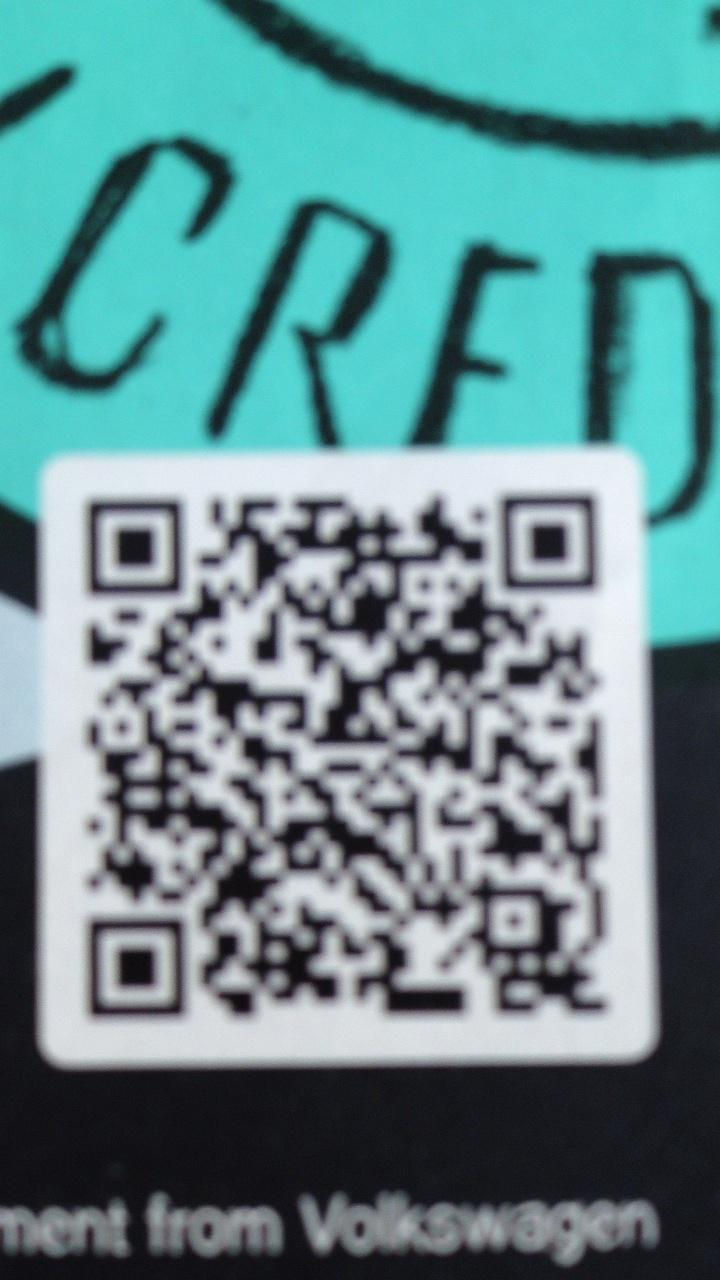Finder pattern: (71, 490, 190, 600), (492, 487, 605, 596), (78, 908, 187, 1006)
